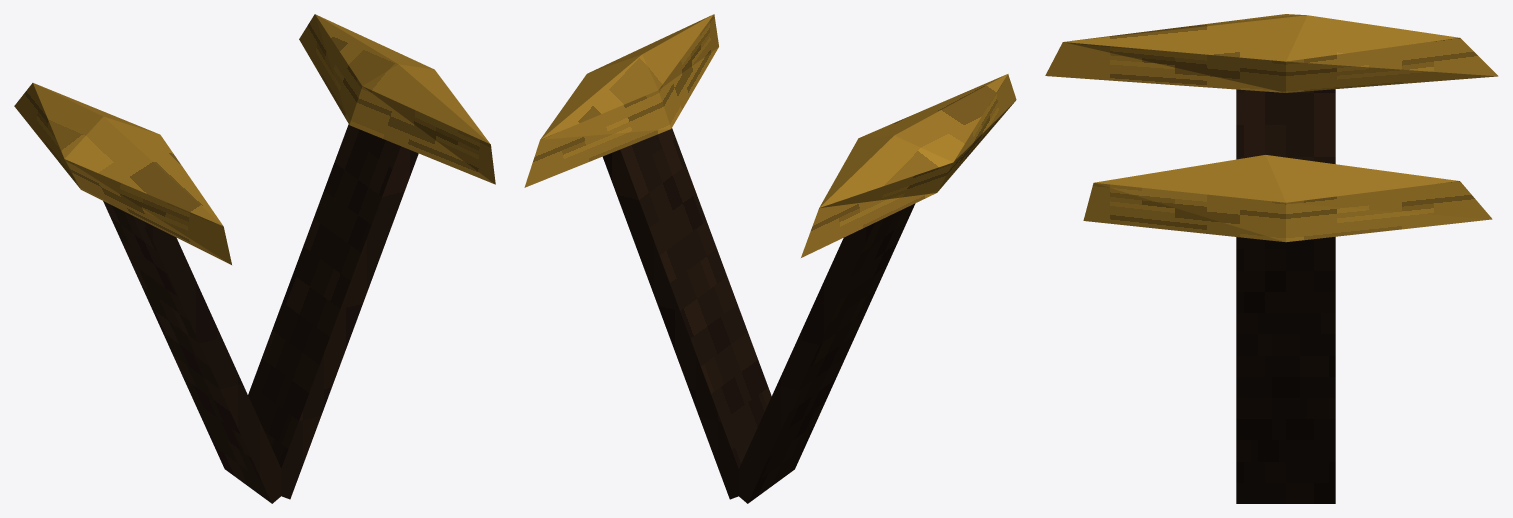
The model's file is saxaul.glb.
The picture shows the model from 3 angles, left to right: view 1: azimuth 30°, elevation 25°; view 2: azimuth 150°, elevation 25°; view 3: azimuth 270°, elevation 25°; orthographic projection. The views are drawn at different scales.
Visible parts, largest first — view 1: ramas, follaje; view 2: ramas, follaje; view 3: follaje, ramas.
Part boxes in pixels (x1,y1,x2,y2): ramas: (103,124,418,503); follaje: (14,14,495,264); ramas: (602,128,915,503); follaje: (524,14,1016,257); follaje: (1045,14,1498,242); ramas: (1236,89,1335,503).
Bounding box in the file's own units: 2 × 2 × 2.
Materials: 1 (1 with a texture image).
